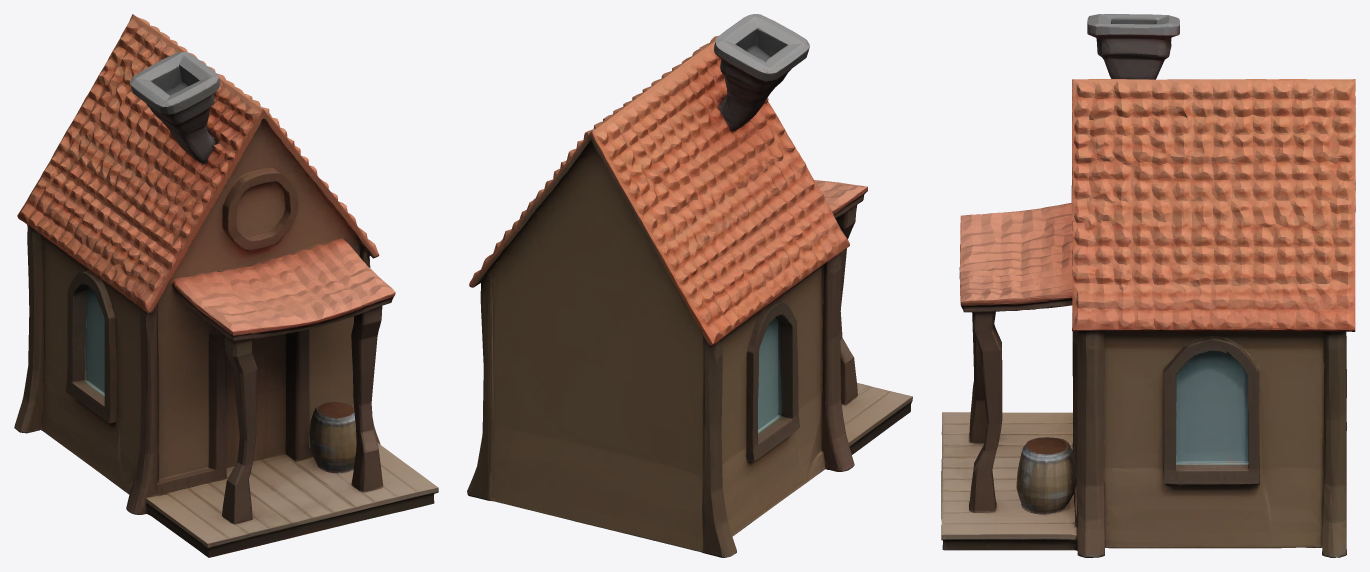
File: nano_t01.glb
3 views of the same model, side by side, from view 1: azimuth 30°, elevation 25°; view 2: azimuth 150°, elevation 25°; view 3: azimuth 270°, elevation 25° (orthographic). The views are drawn at different scales.
Visible parts, largest first — view 1: geometry_0; view 2: geometry_0; view 3: geometry_0.
Part boxes in pixels (left/top/right/bottom): geometry_0: left=14, top=14, right=438, bottom=557; geometry_0: left=467, top=14, right=912, bottom=557; geometry_0: left=941, top=14, right=1355, bottom=557.
Bounding box in the file's own units: 0.7249 × 1.13 × 0.9474.
1 material, 1 textured.
